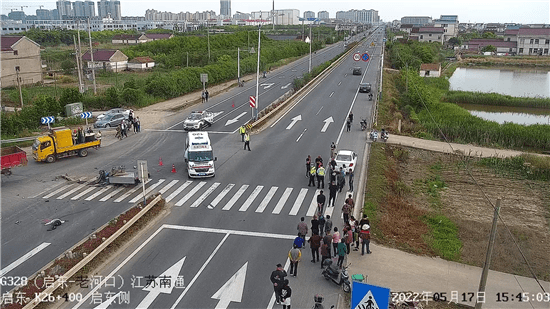bus: (28, 116, 119, 165)
car: (185, 128, 220, 182), (172, 107, 211, 134), (335, 148, 359, 174), (99, 110, 130, 119), (352, 64, 366, 76), (357, 79, 368, 92)
motorbike: (320, 262, 360, 291), (370, 127, 394, 141), (365, 89, 378, 107), (360, 116, 369, 131)
person: (267, 265, 292, 305), (36, 211, 72, 238), (111, 117, 130, 141), (360, 213, 372, 248), (310, 233, 326, 259), (287, 245, 303, 270), (307, 211, 324, 231), (336, 242, 349, 265), (130, 115, 144, 136), (341, 223, 352, 246), (309, 164, 320, 187), (317, 165, 328, 188), (320, 212, 334, 230), (305, 155, 315, 179), (328, 224, 339, 244), (238, 125, 250, 143), (327, 141, 338, 160), (299, 217, 308, 238), (315, 191, 323, 211), (314, 153, 323, 170), (343, 201, 351, 220), (345, 108, 354, 124), (346, 115, 354, 130)
